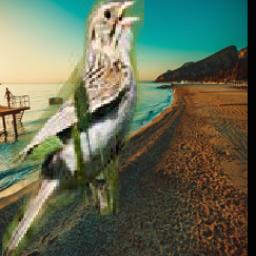Sparrow: (1, 0, 143, 256)
